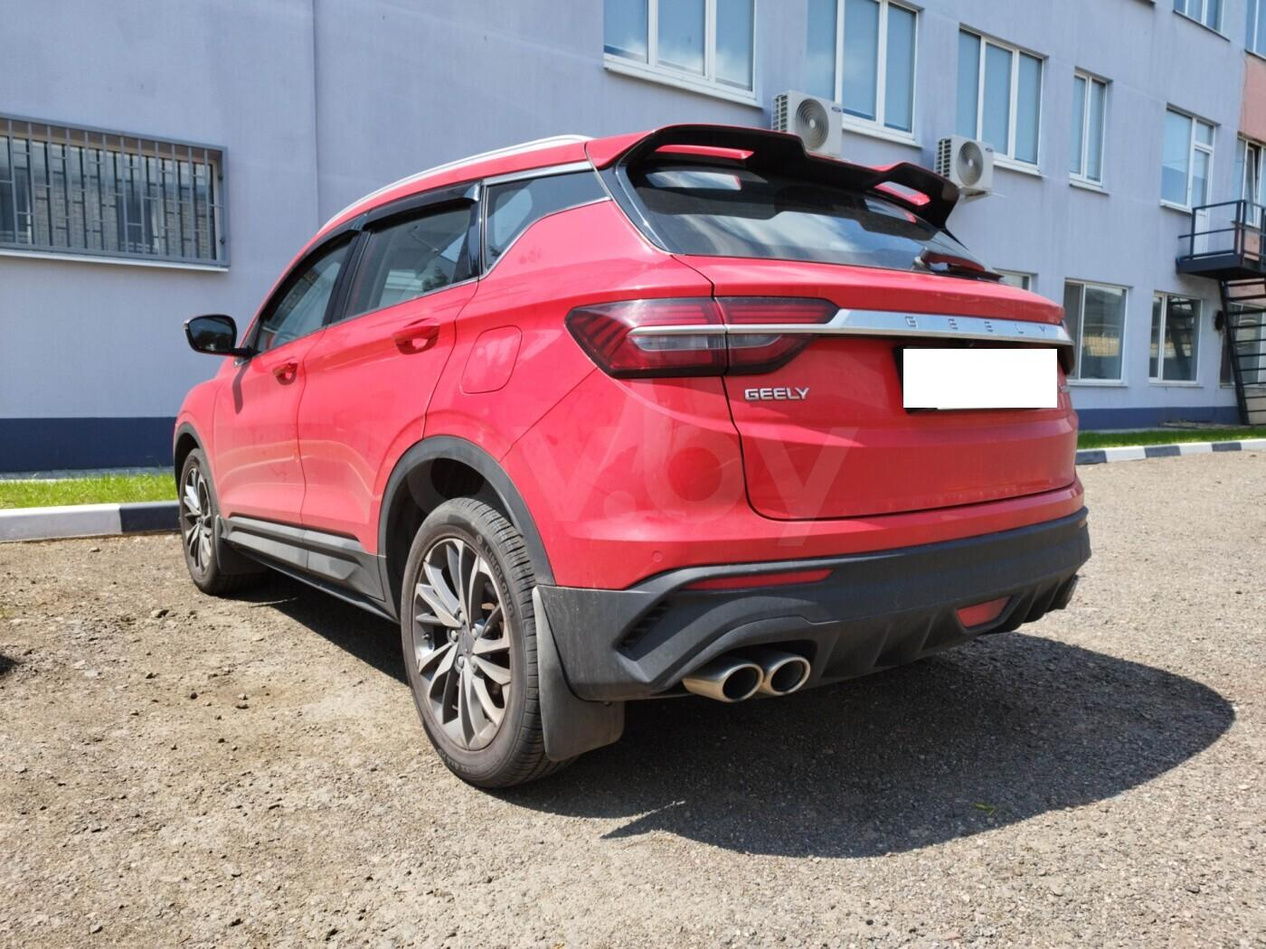Coolray_2019-2023: (168, 121, 1105, 795)
